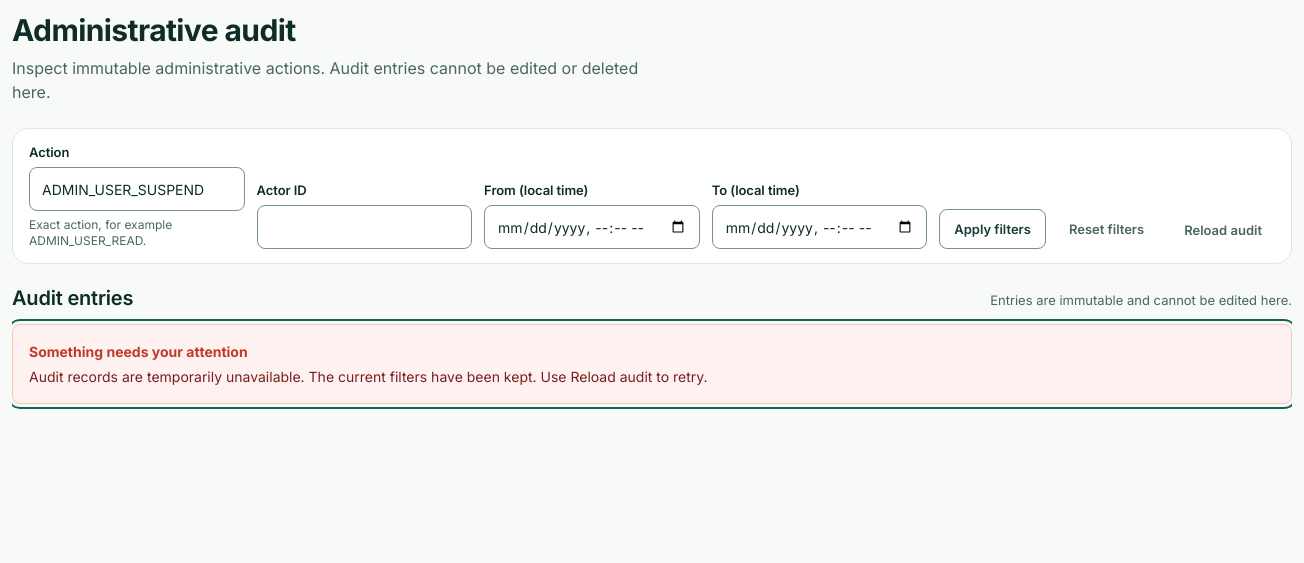
Test: keeps filters and retries a failed audit load from the toolbar
Expected: the message shows "temporarily unavailable", x1=29 y1=368 x2=708 y2=385
Expected: the message shows "current filters have been kept", x1=29 y1=368 x2=708 y2=385
Click the button "Reload audit" at (1223,230), box x1=1171 y1=211 x2=1275 y2=249
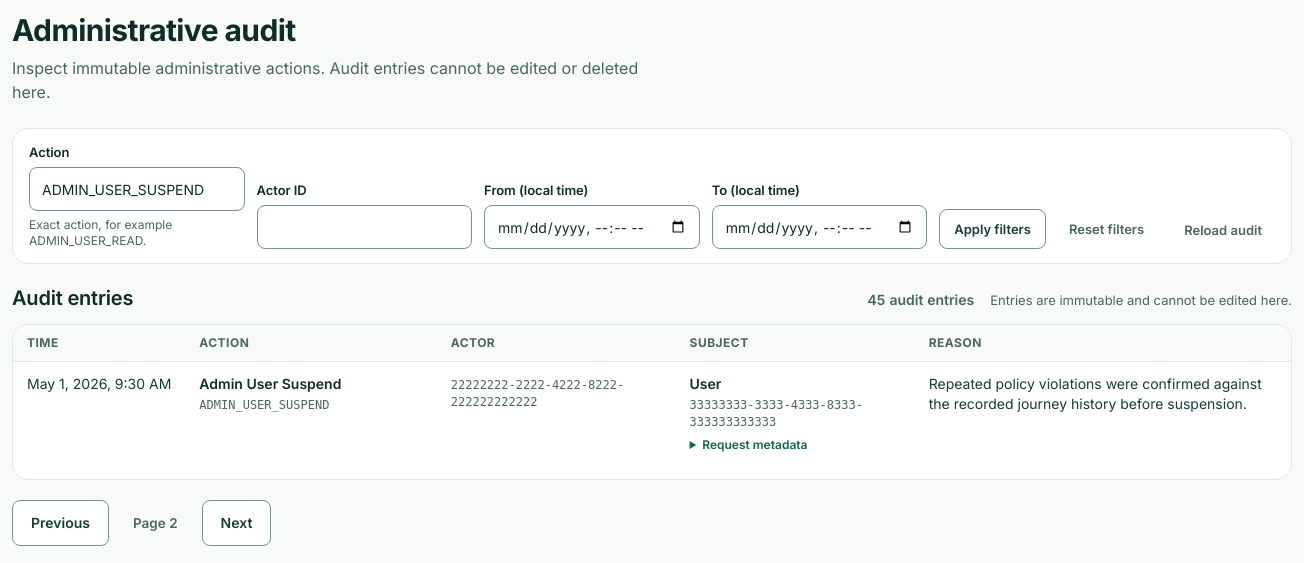
Result: the text "Admin User Suspend" is shown at x1=199 y1=375 x2=341 y2=392
Result: the text "ADMIN_USER_SUSPEND" is shown at x1=199 y1=398 x2=329 y2=412
